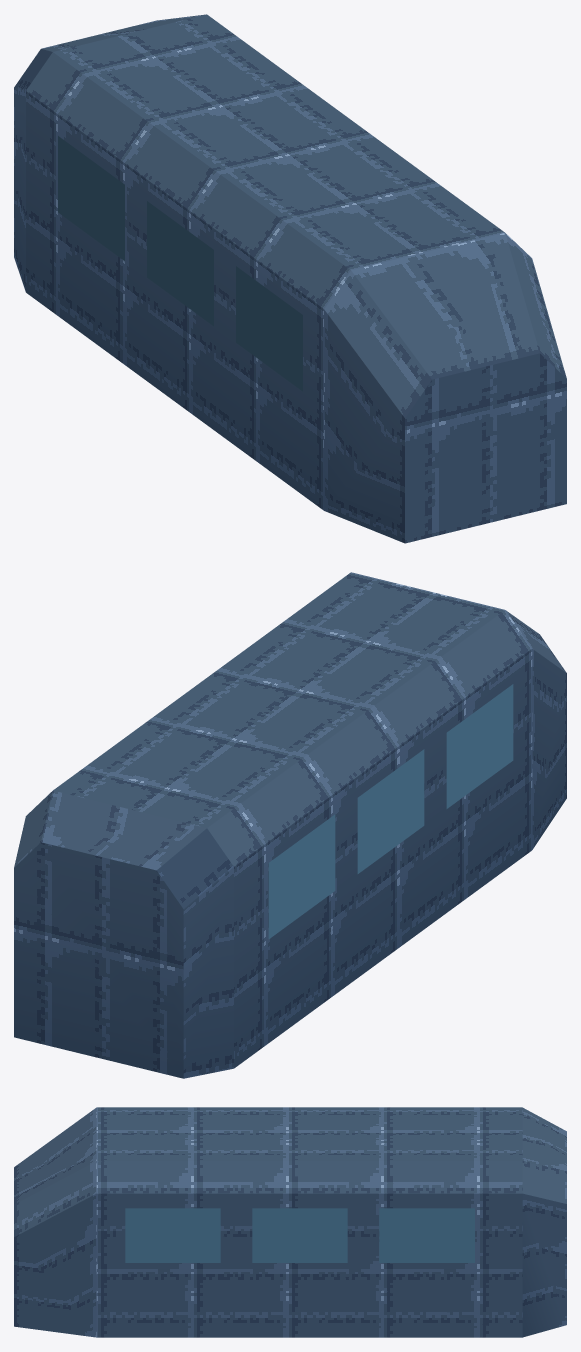
Rendered from cyroom.train.glb.
3 views of the same model, one above another, from view 1: azimuth 30°, elevation 25°; view 2: azimuth 150°, elevation 25°; view 3: azimuth 270°, elevation 25° (orthographic). The views are drawn at different scales.
Visible parts, largest first — view 1: kit_body, kit_card_details; view 2: kit_body, kit_card_details; view 3: kit_body, kit_card_details.
Part boxes in pixels (box(x1,y1,x2,y2)): kit_body: box(14, 14, 566, 543); kit_card_details: box(58, 136, 302, 391); kit_body: box(14, 572, 566, 1078); kit_card_details: box(268, 684, 513, 938); kit_body: box(14, 1107, 566, 1337); kit_card_details: box(125, 1208, 474, 1262).
Size of the model in its own units: 2.73 by 2.9 by 8.7.
2 materials, 1 textured.
